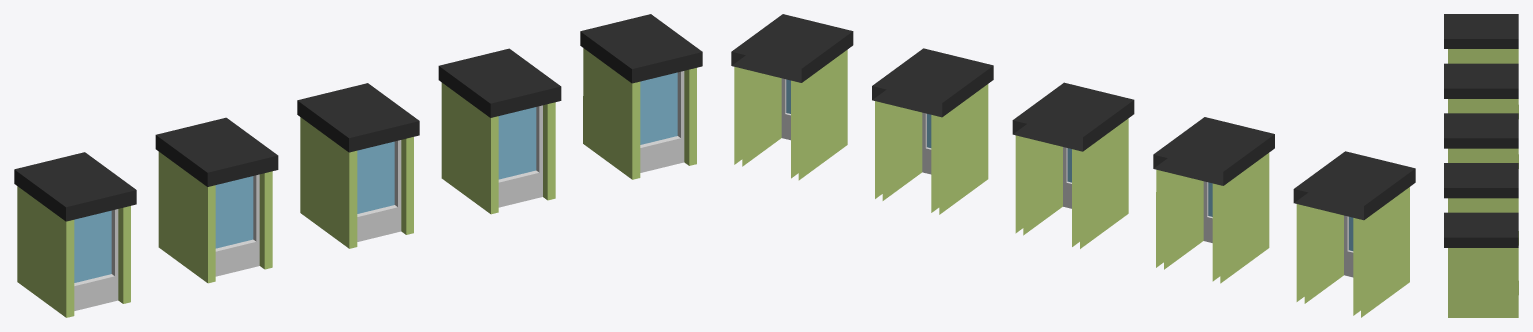
The model's file is Empty_Torben_Dakramen.fbx.
3 views of the same model, side by side, from view 1: azimuth 30°, elevation 25°; view 2: azimuth 150°, elevation 25°; view 3: azimuth 270°, elevation 25° (orthographic). The views are drawn at different scales.
Visible parts, largest first — view 1: Windows_Roof; view 2: Windows_Roof; view 3: Windows_Roof.
Part boxes in pixels (left/top/right/bottom): Windows_Roof: left=14, top=14, right=702, bottom=317; Windows_Roof: left=731, top=14, right=1415, bottom=317; Windows_Roof: left=1444, top=14, right=1518, bottom=317.
Bounding box in the file's own units: 7.24 × 1.23 × 1.02.
